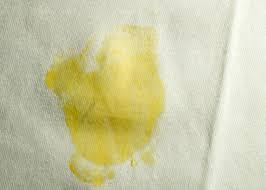lipstick: (42, 34, 160, 186)
